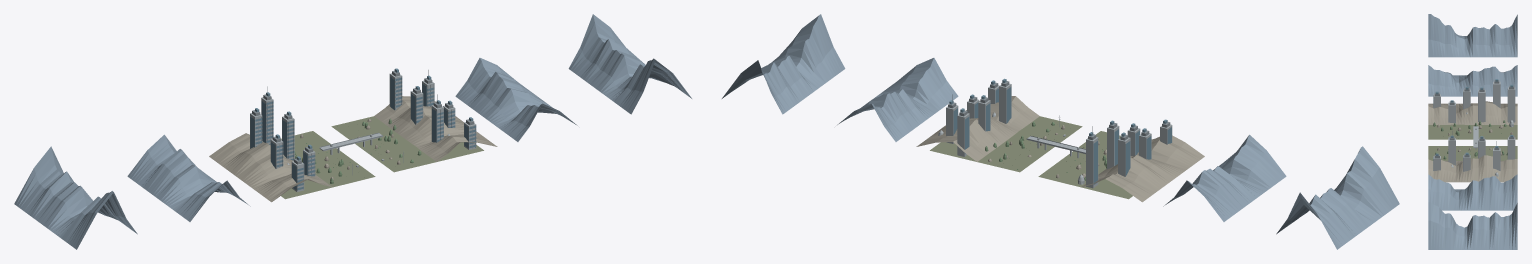
Rendered from outskirts.glb.
3 renders of one model, left to right at view 1: azimuth 30°, elevation 25°; view 2: azimuth 150°, elevation 25°; view 3: azimuth 270°, elevation 25°, orthographic. The views are drawn at different scales.
Parts seen in each view (by area): view 1: RidgeHorizon, RidgeFar, RidgeNear, Structures, Terrain, Overpass; view 2: RidgeHorizon, RidgeFar, RidgeNear, Structures, Terrain, Overpass; view 3: RidgeHorizon, RidgeFar, RidgeNear, Structures, Terrain, Vegetation, Overpass, Rocks.
Part boxes in pixels (x1,y1,x2,y2): RidgeHorizon: (14, 14, 691, 249); RidgeFar: (127, 58, 577, 221); RidgeNear: (209, 96, 497, 202); Structures: (250, 68, 476, 191); Terrain: (281, 116, 483, 199); Overpass: (319, 132, 383, 154); RidgeHorizon: (722, 14, 1399, 249); RidgeFar: (837, 58, 1286, 221); RidgeNear: (916, 96, 1204, 202); Structures: (938, 78, 1172, 188); Terrain: (930, 116, 1132, 199); Overpass: (1026, 135, 1085, 158); RidgeHorizon: (1428, 14, 1517, 249); RidgeFar: (1428, 65, 1517, 210); RidgeNear: (1428, 101, 1517, 182); Structures: (1433, 79, 1515, 176); Terrain: (1428, 124, 1517, 160); Vegetation: (1433, 120, 1507, 159); Overpass: (1473, 126, 1478, 149); Rocks: (1437, 124, 1512, 155).
Bounding box in the file's own units: 680 × 63.43 × 120.
